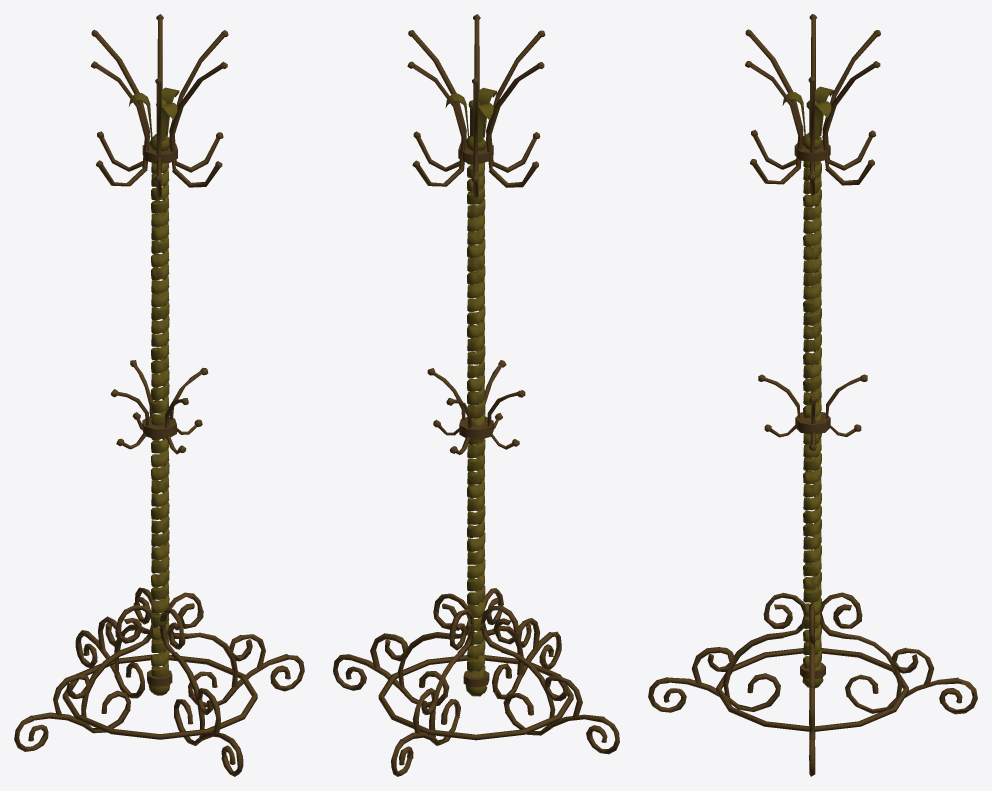
The model's file is ropa_hanger.glb.
The picture shows the model from 3 angles, left to right: view 1: azimuth 30°, elevation 25°; view 2: azimuth 150°, elevation 25°; view 3: azimuth 270°, elevation 25°; orthographic projection.
Visible parts, largest first — view 1: Base_phong1_0; view 2: Base_phong1_0; view 3: Base_phong1_0.
Boxes of the visible parts, x1,y1,x2,y2 form: Base_phong1_0: (14, 14, 304, 776); Base_phong1_0: (333, 14, 619, 776); Base_phong1_0: (648, 14, 977, 776).
Size of the model in its own units: 0.8056 by 1.8 by 0.8056.
